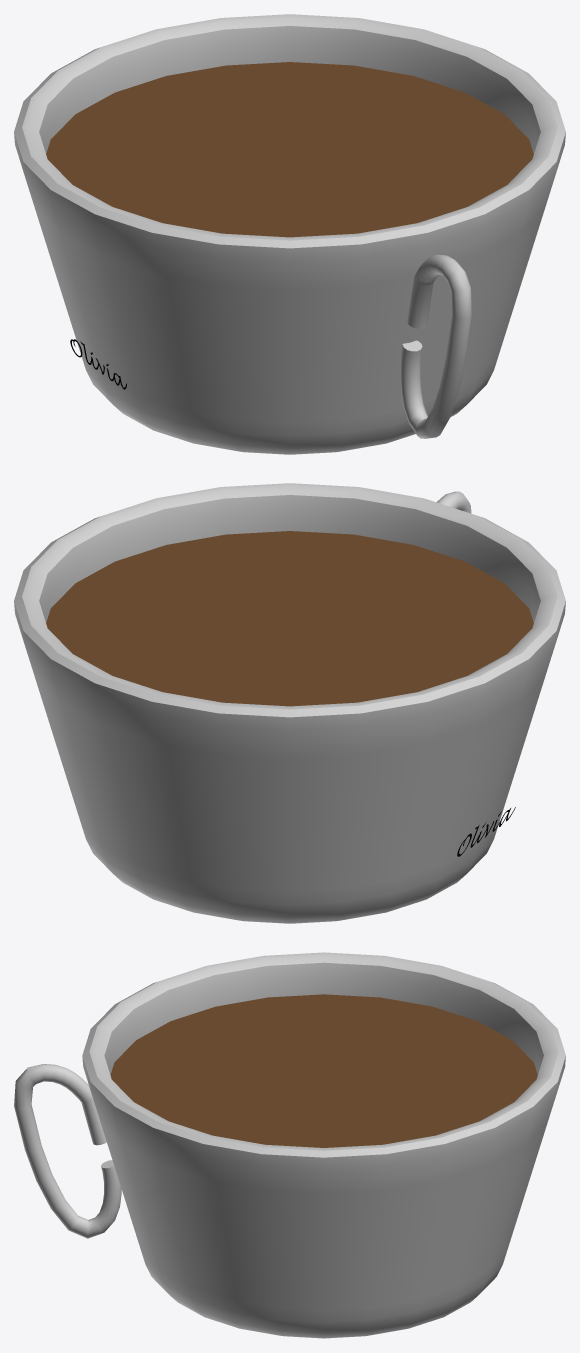
The model's file is TEACUP.fbx.
3 renders of one model, top to bottom at view 1: azimuth 30°, elevation 25°; view 2: azimuth 150°, elevation 25°; view 3: azimuth 270°, elevation 25°, orthographic. The views are drawn at different scales.
Visible parts, largest first — view 1: Cone001, Object, Line001; view 2: Cone001, Object; view 3: Cone001, Object, Line001.
Part boxes in pixels (x1,y1,x2,y2): Cone001: (14,14,565,454); Object: (46,62,533,237); Line001: (400,254,471,438); Cone001: (14,483,565,923); Object: (46,531,533,706); Cone001: (82,952,565,1338); Object: (110,994,537,1147); Line001: (14,1064,121,1238).
Bounding box in the file's own units: 13.77 × 7 × 15.72.
